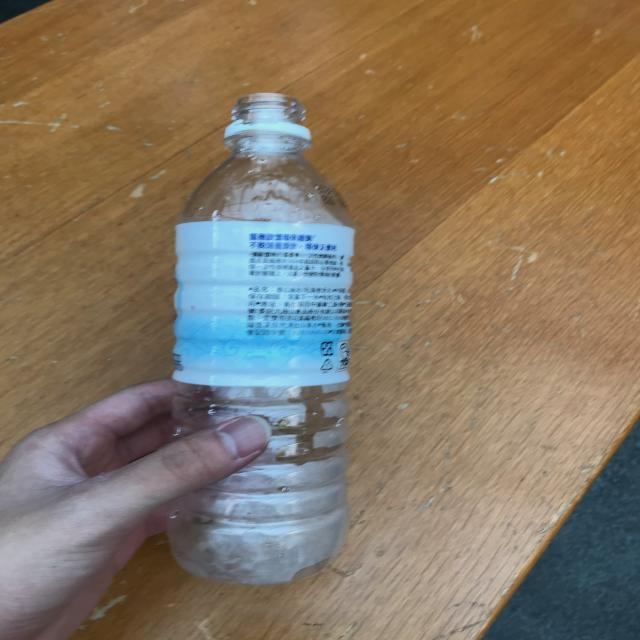plastic_bottle: (167, 93, 355, 586)
